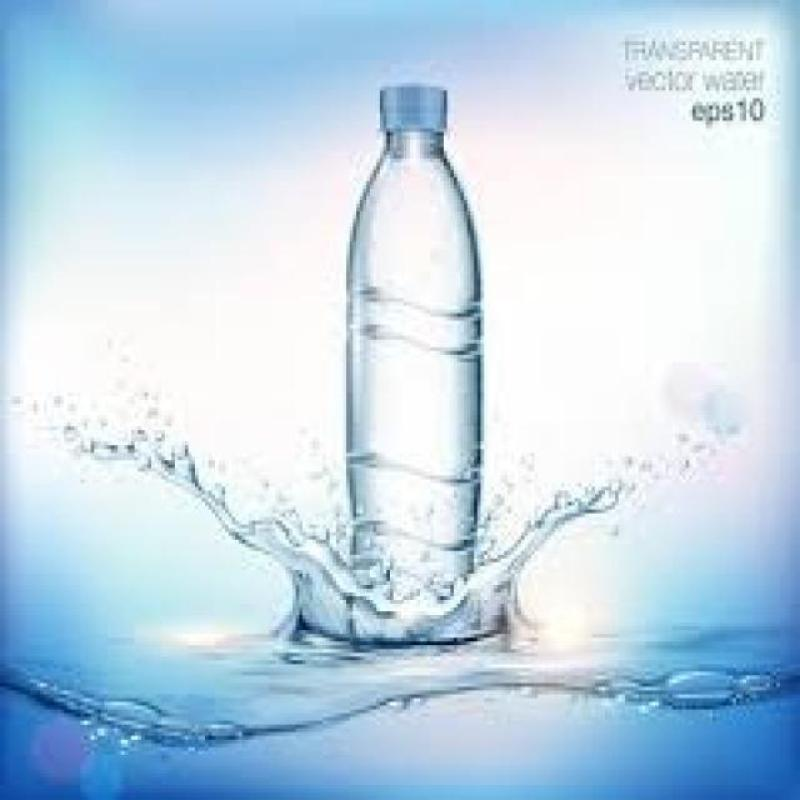botella: (354, 83, 485, 619)
